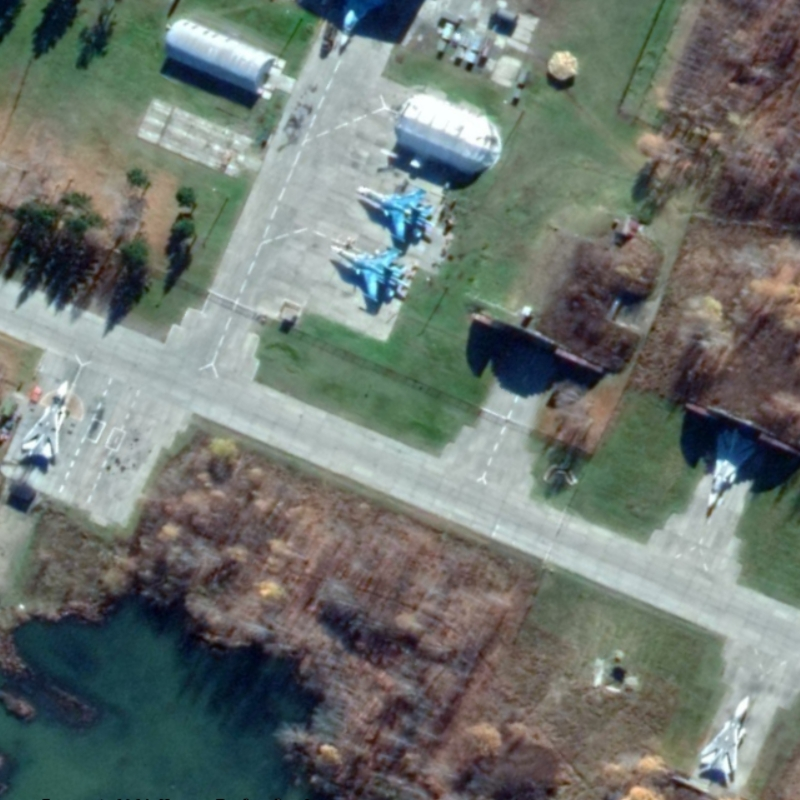A19: (328, 243, 412, 304), (355, 182, 437, 244)
A20: (705, 427, 758, 510), (699, 693, 752, 776), (20, 378, 71, 461)
